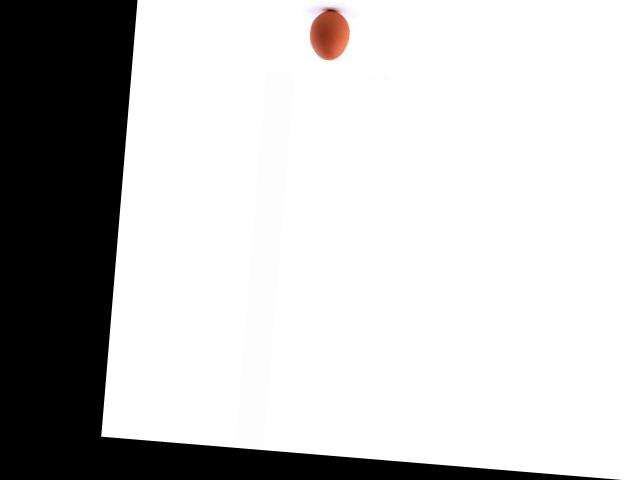egg: (307, 9, 350, 61)
